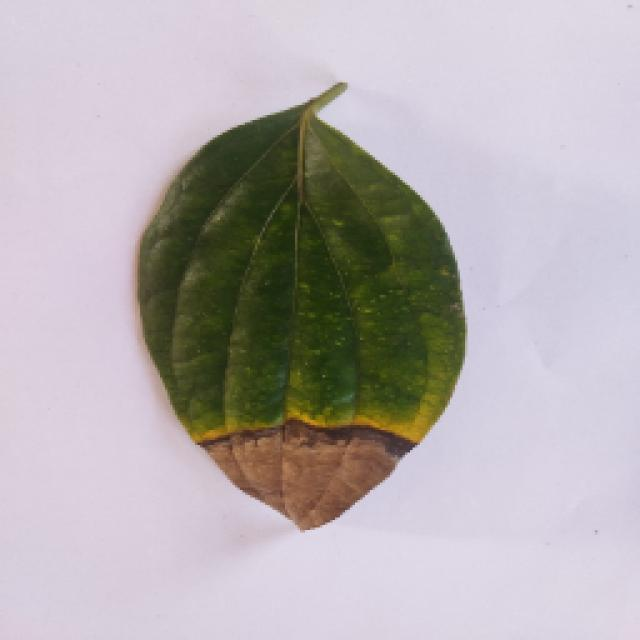footrot: (130, 80, 468, 535)
